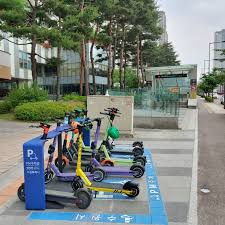kick_body: (94, 183, 124, 193), (103, 167, 130, 174), (112, 149, 133, 153), (113, 159, 133, 163)
kick_handler: (88, 117, 105, 124)
kick_neck: (77, 135, 84, 176)
kick_wheel: (76, 188, 92, 209), (127, 181, 140, 197), (92, 168, 105, 182), (131, 165, 144, 178), (134, 147, 143, 157)
